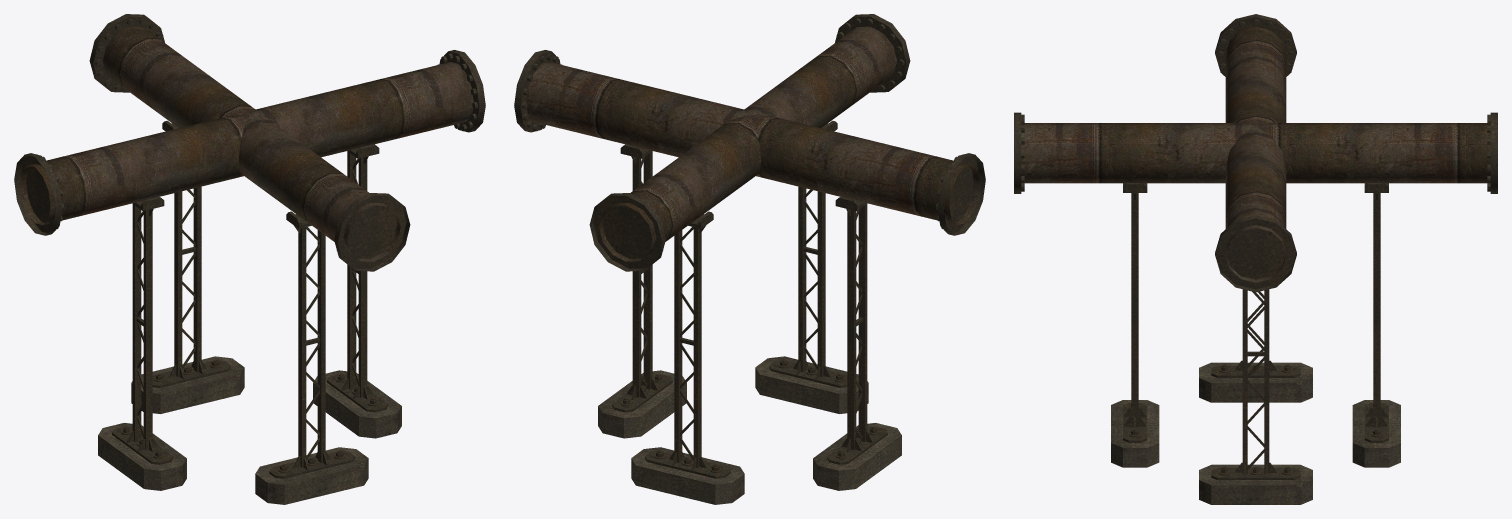
The model's file is pipe_cx_2.obj.
The picture shows the model from 3 angles, left to right: view 1: azimuth 30°, elevation 25°; view 2: azimuth 150°, elevation 25°; view 3: azimuth 270°, elevation 25°; orthographic projection. The views are drawn at different scales.
Visible parts, largest first — view 1: pipe_cx_2; view 2: pipe_cx_2; view 3: pipe_cx_2.
Part boxes in pixels (bbox=[...]): pipe_cx_2: bbox=[14, 14, 485, 504]; pipe_cx_2: bbox=[514, 14, 985, 504]; pipe_cx_2: bbox=[1014, 14, 1497, 504].
Size of the model in its own units: 4 by 2.99 by 4.
